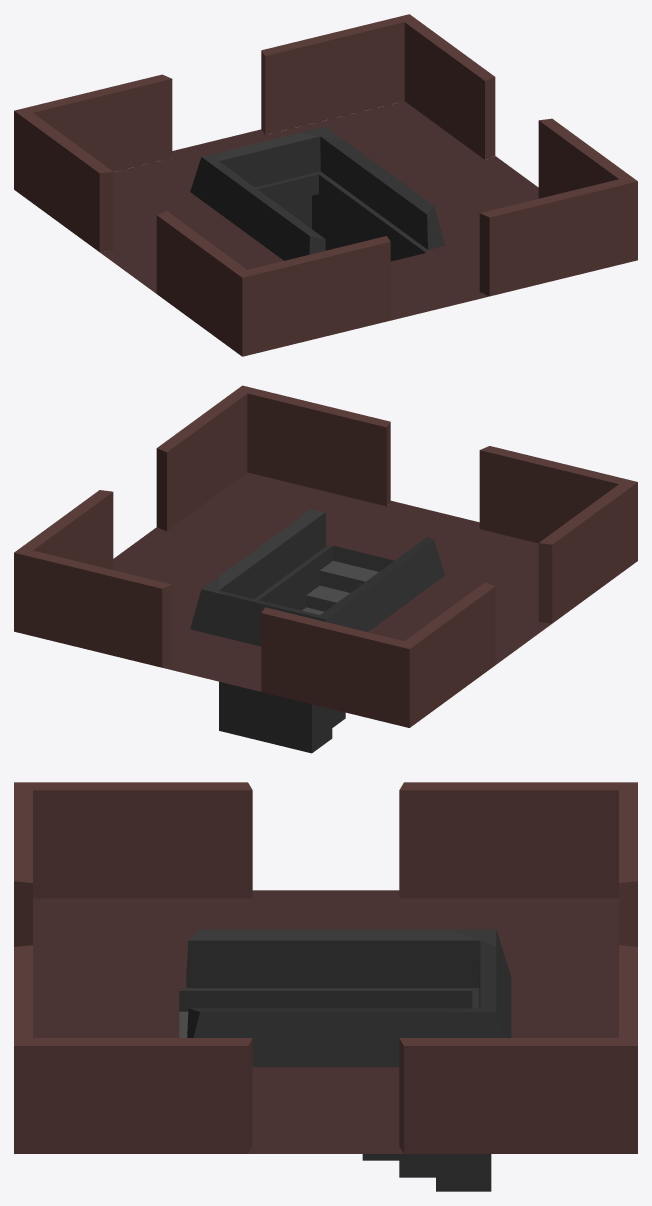
File: DirtRoomEnd.fbx
3 views of the same model, one above another, from view 1: azimuth 30°, elevation 25°; view 2: azimuth 150°, elevation 25°; view 3: azimuth 270°, elevation 25° (orthographic). The views are drawn at different scales.
Parts seen in each view (by area): view 1: DirtRoomWall, DirtEndRoom; view 2: DirtRoomWall, DirtEndRoom; view 3: DirtRoomWall, DirtEndRoom.
Boxes of the visible parts, x1,y1,x2,y2 form: DirtRoomWall: [14, 14, 637, 356]; DirtEndRoom: [100, 101, 538, 320]; DirtRoomWall: [14, 385, 637, 727]; DirtEndRoom: [113, 472, 551, 753]; DirtRoomWall: [14, 782, 637, 1153]; DirtEndRoom: [33, 890, 618, 1191].
Bounding box in the file's own units: 7.96 × 3.47 × 7.96.
Materials: 1 (1 with a texture image).
